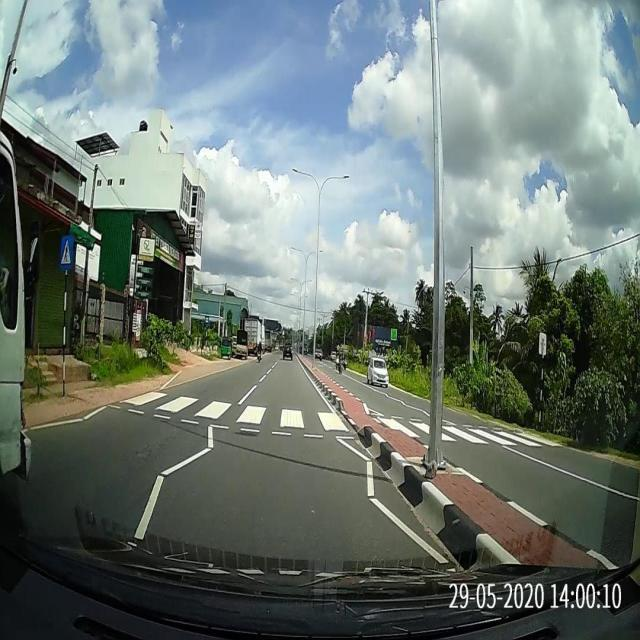Crosswalk: (100, 388, 572, 449)
